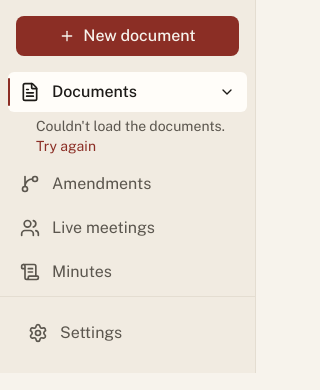
Sidebar › says when the documents couldn't load, rather than listing none, and tries again
Check: the text "Couldn't load the documents." is shown, box [36,118,225,134]
Click the button "Try again" at point(66, 146), box [36,136,96,156]
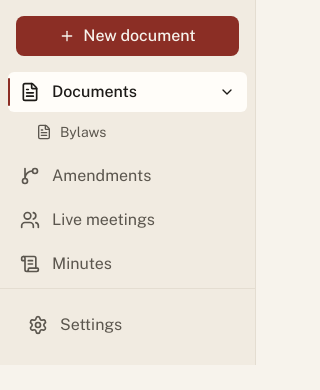
Check: the link "Bylaws" is shown, box [36,124,106,140]
Check: the text "Couldn't load the documents." is gone
